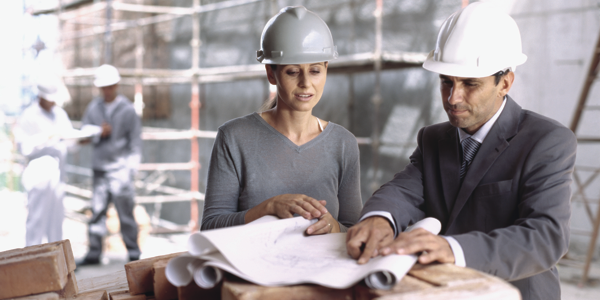hard hat: (421, 6, 528, 77), (255, 7, 338, 65), (92, 65, 120, 89)
